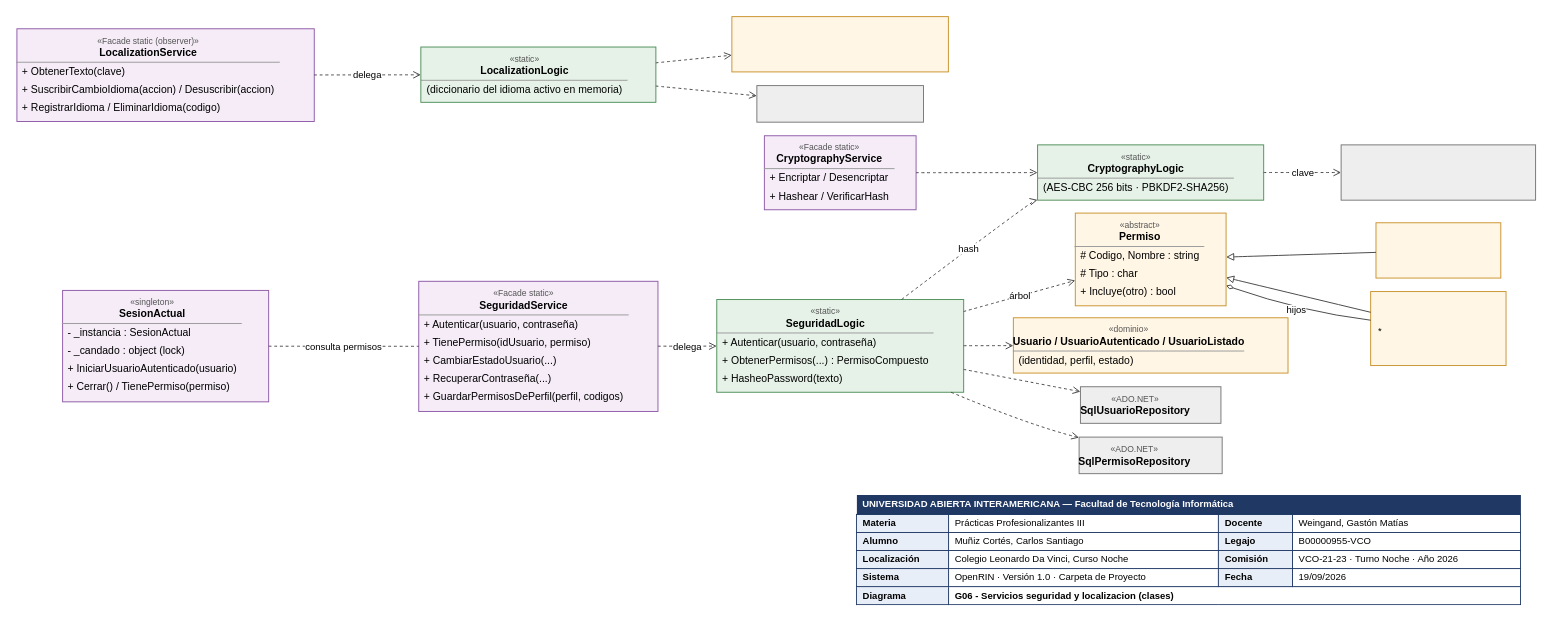
Some shapes in this 1552 by 641 pixel diagram are drawn without their labels. The shapes that lost their labels are listed below. From the top down, each one's box as (x1, y1, x2, y2) in pixels, then its label:
(731, 16, 948, 72): «dominio» Idioma / TextoLocalizacion Codigo, Nombre, Activo · Clave, Valor
(756, 85, 923, 122): «ADO.NET» SqlLocalizacionRepository
(1340, 144, 1536, 200): «static» CryptoKeyProvider + ObtenerClave() : byte[] (DPAPI)
(1375, 222, 1501, 278): «hoja» PermisoAtomico + Incluye(otro) : bool
(1370, 291, 1506, 366): «compuesto» PermisoCompuesto - Hijos : List<Permiso> + Incluye(otro) : bool
